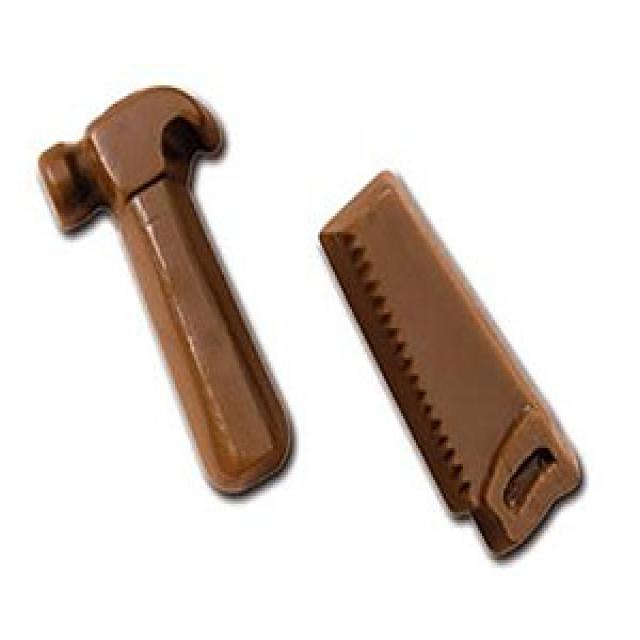hammer: (38, 93, 307, 515)
